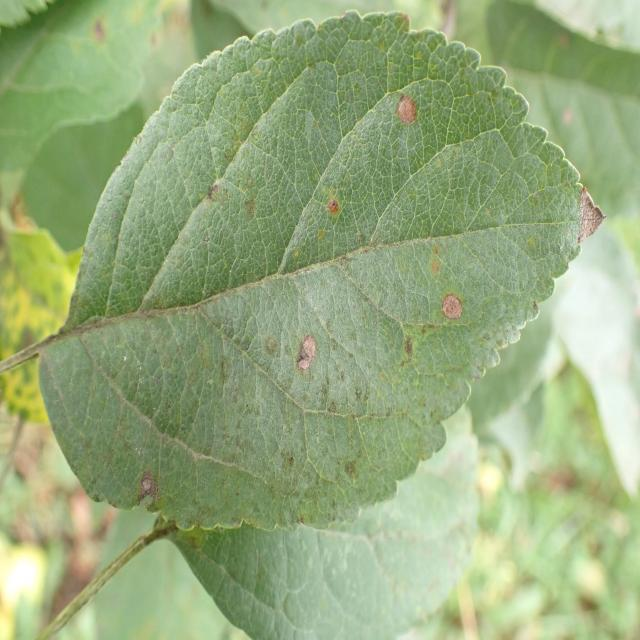frog-eye-leaf-spot: (37, 8, 606, 533)
